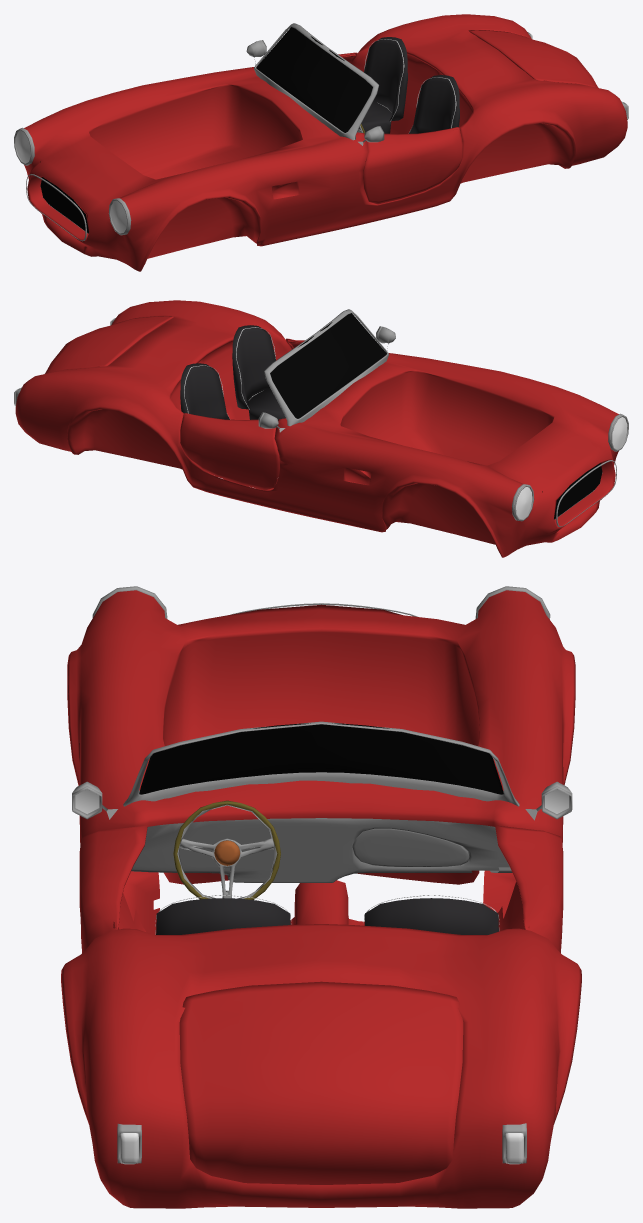
The model's file is Shelbt 1.fbx.
The picture shows the model from 3 angles, top to bottom: view 1: azimuth 30°, elevation 25°; view 2: azimuth 150°, elevation 25°; view 3: azimuth 270°, elevation 25°; orthographic projection. The views are drawn at different scales.
Parts seen in each view (by area): view 1: Carosserie, Carosserie .005, Portes, Plane.001, Coffre, Carosserie .004, Carosserie .002, Plane.002, Circle.009; view 2: Carosserie, Carosserie .005, Portes, Plane.001, Coffre, Carosserie .004, Carosserie .002, Plane.002, Circle.009; view 3: Carosserie, Coffre, Carosserie .003, Carosserie .005, Portes, Plane.001, Carosserie .004, Circle.013, Circle.009, Cube.002, Carosserie .002.
Part boxes in pixels (box(x1,y1,x2,y2)): Carosserie: box(24, 14, 627, 271); Carosserie .005: box(256, 27, 372, 132); Portes: box(338, 52, 462, 204); Plane.001: box(358, 37, 459, 133); Coffre: box(468, 30, 598, 87); Carosserie .004: box(254, 23, 378, 140); Carosserie .002: box(14, 127, 131, 235); Plane.002: box(40, 161, 88, 233); Circle.009: box(246, 40, 384, 145); Carosserie: box(15, 300, 618, 557); Carosserie .005: box(270, 313, 386, 418); Portes: box(180, 338, 304, 490); Plane.001: box(180, 325, 285, 420); Coffre: box(45, 316, 174, 373); Carosserie .004: box(264, 309, 388, 426); Carosserie .002: box(512, 413, 628, 521); Plane.002: box(542, 463, 602, 519); Circle.009: box(258, 326, 395, 432); Carosserie: box(61, 590, 581, 1208); Coffre: box(179, 981, 463, 1184); Carosserie .003: box(131, 818, 512, 882); Carosserie .005: box(139, 723, 503, 794); Portes: box(79, 825, 563, 952); Plane.001: box(156, 898, 498, 934); Carosserie .004: box(123, 721, 519, 806); Circle.013: box(173, 800, 280, 899); Circle.009: box(72, 781, 572, 820); Cube.002: box(117, 1123, 526, 1164); Carosserie .002: box(92, 586, 550, 619).
Bounding box in the file's own units: 643 × 161 × 275.
